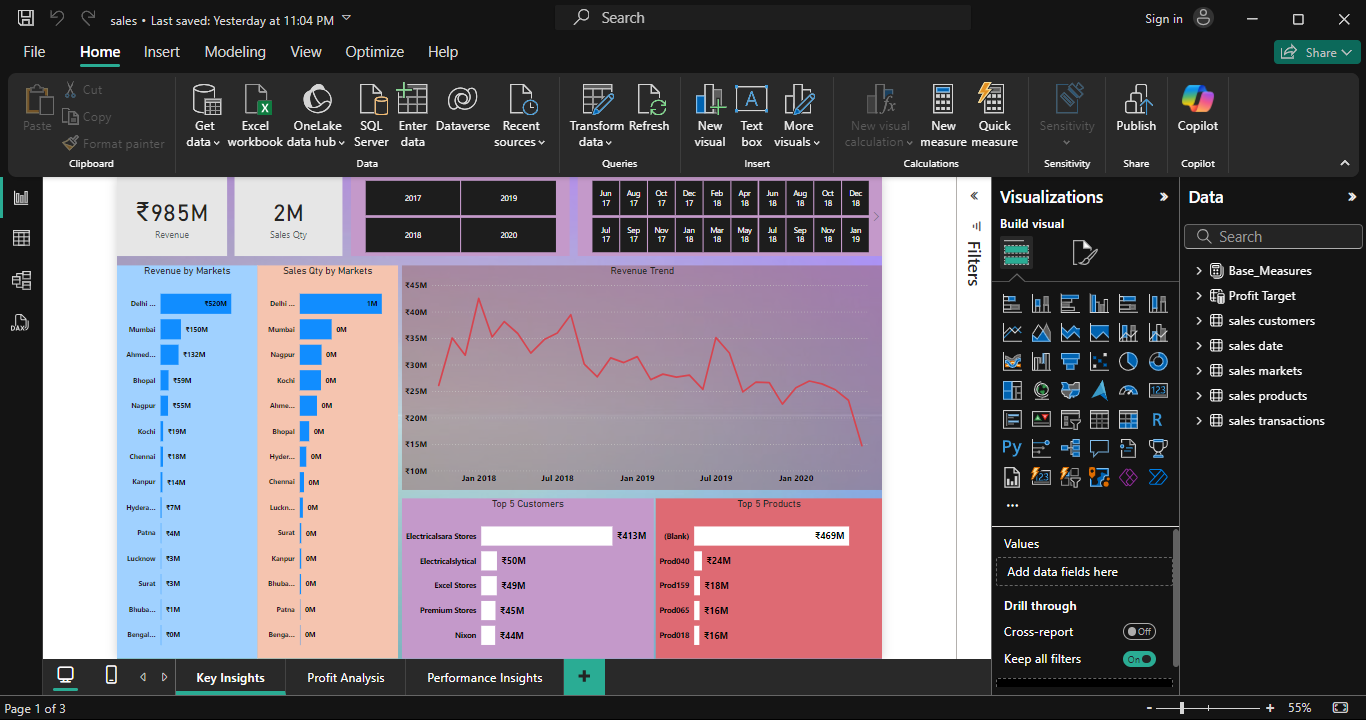

The page's visual inventory and layout, read from the dashboard file:
{"tool":"powerbi","page":{"name":"Key Insights","canvas":[1350,850],"ordinal":0},"visuals":[{"type":"card","fields":{"Values":["BaseMeasures (2).Revenue"]},"box":[0,0,194.5,139.4],"z":0},{"type":"card","fields":{"Values":["BaseMeasures (2).Sales Qty"]},"box":[207.3,0,190.8,139.4],"z":1000},{"type":"barChart","title":"Revenue by Markets","fields":{"Y":["BaseMeasures (2).Revenue"],"Category":["sales markets.markets_name"]},"box":[0,155.9,247.7,693.5],"z":2000},{"type":"barChart","title":"Sales Qty by Markets","fields":{"Y":["BaseMeasures (2).Sales Qty"],"Category":["sales markets.markets_name"]},"box":[247.7,155.9,247.7,693.5],"z":3000},{"type":"slicer","fields":{"Values":["sales date.year"]},"box":[412.8,0,385.3,139.4],"z":4000},{"type":"slicer","fields":{"Values":["sales date.cy_date"]},"box":[812.7,0,537.5,139.4],"z":5000},{"type":"barChart","title":"Top 5 Customers","fields":{"Y":["BaseMeasures (2).Revenue"],"Category":["sales customers.custmer_name"]},"box":[502.7,566.9,444,282.5],"z":6000},{"type":"barChart","title":"Top 5 Products","fields":{"Y":["BaseMeasures (2).Revenue"],"Category":["sales products.product_code"]},"box":[950.3,566.9,399.9,282.5],"z":7000},{"type":"lineChart","title":"Revenue Trend","fields":{"Y":["BaseMeasures (2).Revenue"],"Category":["sales date.cy_date"]},"box":[502.7,155.9,847.6,396.3],"z":8000}]}

Visuals, with their boxes on the page's 1350x850 design canvas (x1, y1, x2, y2). These are canvas units, not pixel positions in the 1366x720 screenshot, which may show the page scaled, cropped or inside an application window:
card - BaseMeasures (2).Revenue: [0,0,194,139]
card - BaseMeasures (2).Sales Qty: [207,0,398,139]
"Revenue by Markets" barChart: [0,156,248,849]
"Sales Qty by Markets" barChart: [248,156,495,849]
slicer - sales date.year: [413,0,798,139]
slicer - sales date.cy_date: [813,0,1350,139]
"Top 5 Customers" barChart: [503,567,947,849]
"Top 5 Products" barChart: [950,567,1350,849]
"Revenue Trend" lineChart: [503,156,1350,552]
